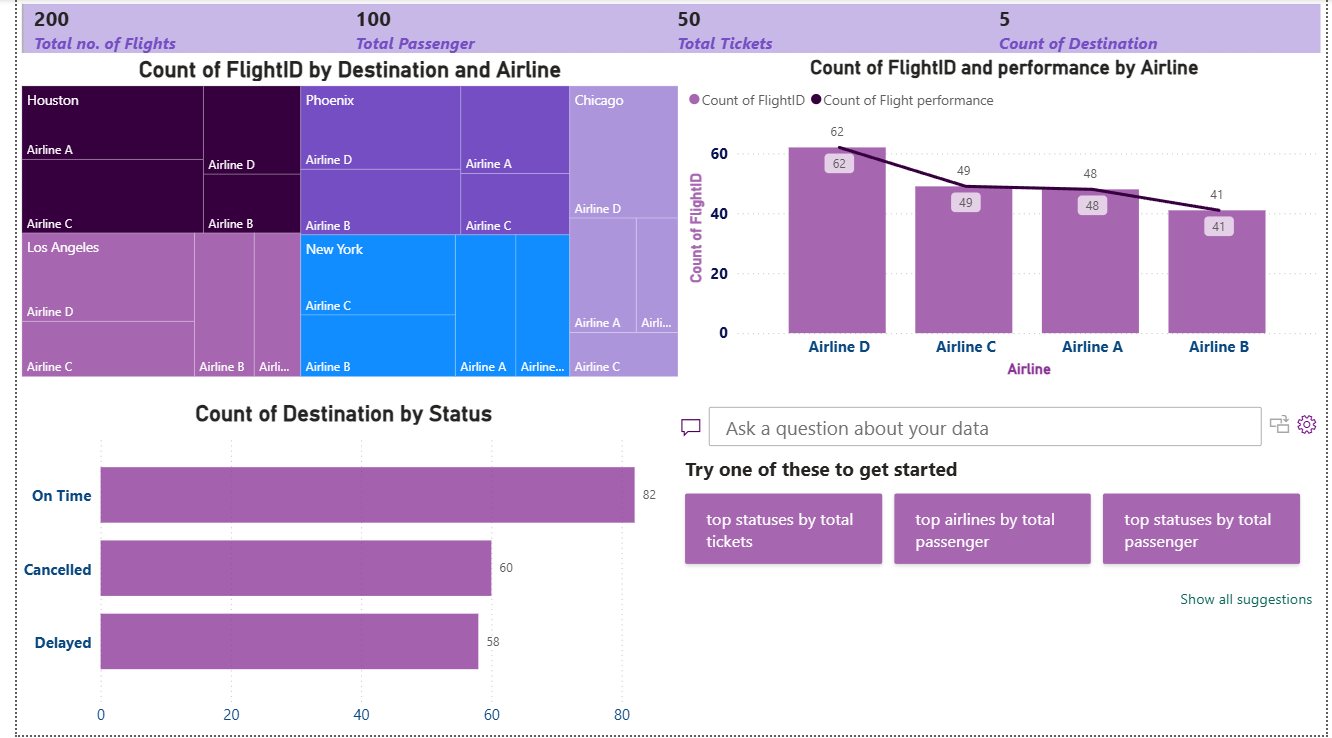

What the dashboard file says about the page in this screenshot:
{"tool":"powerbi","page":{"name":"dashboard","canvas":[1280,720],"ordinal":4},"visuals":[{"type":"qnaVisual","box":[640.8,374.6,639.5,345.8],"z":0},{"type":"clusteredBarChart","fields":{"Category":["flight_information.Status"],"Y":["CountNonNull(flight_information.Destination)"]},"box":[0,392.5,639.5,328],"z":1000},{"type":"multiRowCard","fields":{"Values":["flight_information.FlightID","passenger_information.Total Passenger","ticket_information.Total Tickets","flight_information.Destination"]},"box":[0,0,1280.3,68.6],"z":2000},{"type":"treemap","fields":{"Group":["flight_information.Destination"],"Details":["flight_information.Airline"],"Values":["CountNonNull(flight_information.FlightID)"]},"box":[0,56.3,651.8,318.4],"z":3000},{"type":"lineStackedColumnComboChart","title":"Count of FlightID and performance by Airline","fields":{"Category":["flight_information.Airline"],"Y":["CountNonNull(flight_information.FlightID)"],"Y2":["CountNonNull(flight_information.Flight performance)"]},"box":[651.8,56.3,628.5,318.4],"z":4000}]}

Visuals, with their boxes in screenshot pixels (x1, y1, x2, y2), scaled from the page's 1280x720 canvas onto the 1332x738 screenshot:
qnaVisual: crop(667, 384, 1331, 737)
clusteredBarChart - flight_information.Status x CountNonNull(flight_information.Destination): crop(0, 402, 665, 737)
multiRowCard - flight_information.FlightID x passenger_information.Total Passenger: crop(0, 0, 1331, 70)
treemap - flight_information.Destination x flight_information.Airline: crop(0, 58, 678, 384)
"Count of FlightID and performance by Airline" lineStackedColumnComboChart: crop(678, 58, 1331, 384)
